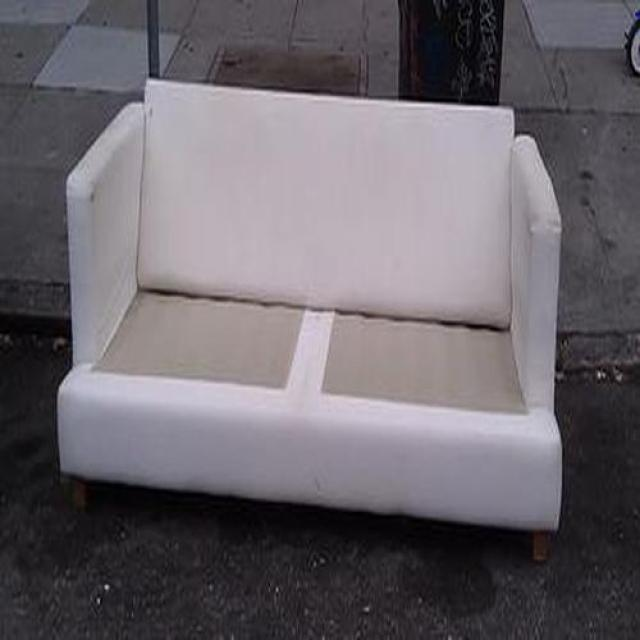sofa: (56, 79, 563, 557)
